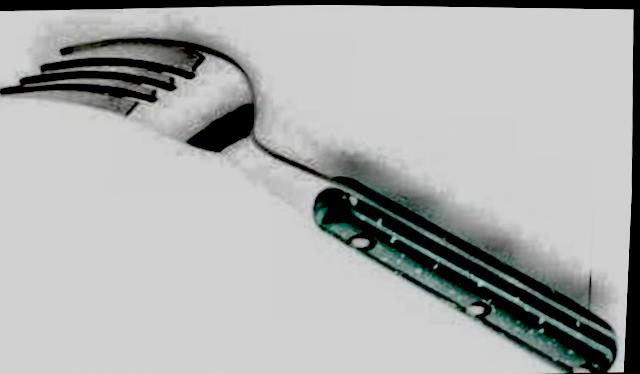Fork: (0, 29, 617, 373)
